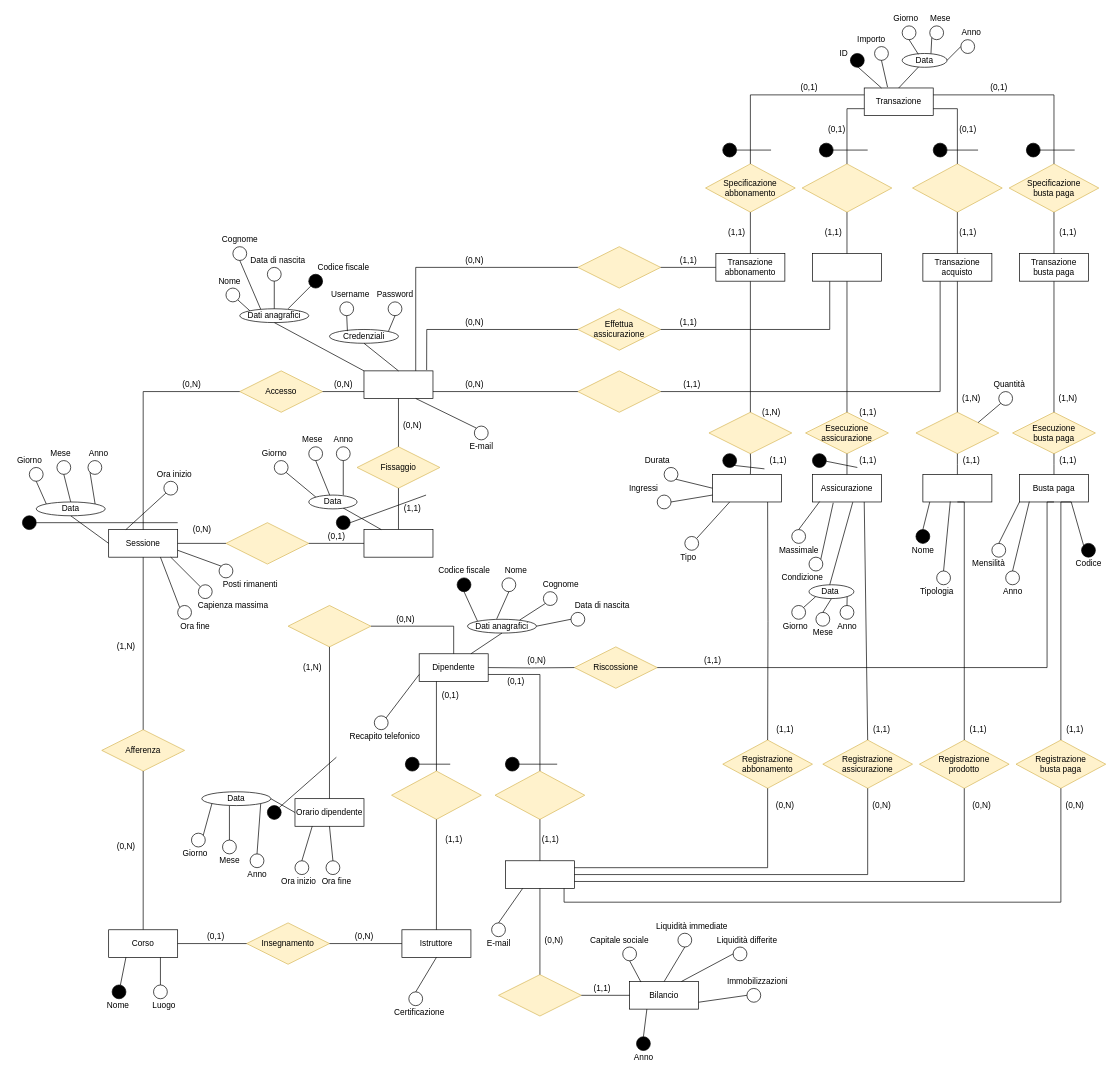
The diagram is 1118 pixels wide and 1076 high, and some of its shapes have lost their labels. Each missing label, with the box of its shape:
Abbonamento: (712, 474, 781, 502)
Compilazione: (498, 974, 581, 1016)
Corrispondenza: (225, 522, 309, 564)
Effettua abbonamento: (577, 246, 661, 288)
Effettua acquisto: (577, 370, 661, 412)
Esecuzione abbonamento: (708, 412, 792, 454)
Esecuzione prodotto: (915, 412, 999, 454)
Iscritto: (363, 370, 433, 398)
Prenotazione: (363, 529, 433, 557)
Prodotto: (922, 474, 992, 502)
Segretario: (505, 860, 574, 888)
Specificazione acquisto: (912, 163, 1002, 212)
Specificazione assicurazione: (801, 163, 892, 212)
Specificazione istruttore: (391, 770, 481, 819)
Specificazione segretario: (494, 770, 585, 819)
Svolgimento: (287, 605, 371, 647)
Transazione assicurazione: (812, 253, 881, 281)
